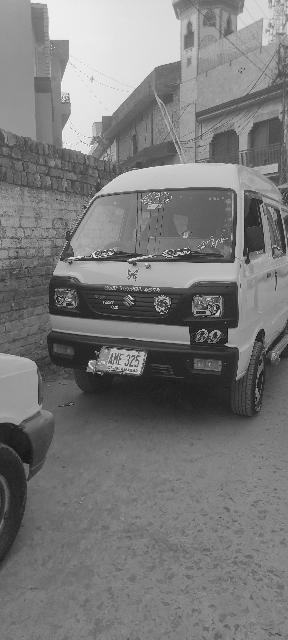Number: (100, 354, 142, 366)
